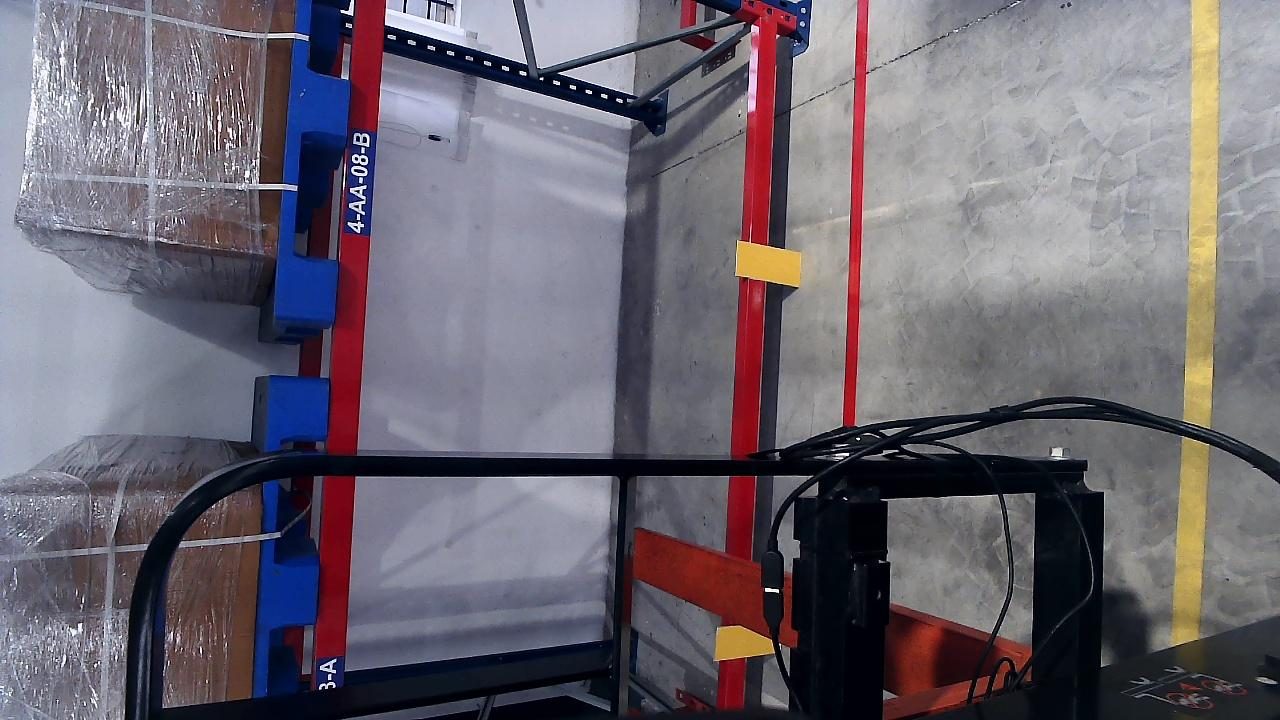h_rack: (715, 20, 776, 704), (313, 0, 368, 685)
orange_strip: (735, 241, 801, 287), (714, 627, 778, 659)
red_line: (840, 5, 869, 426)
small_pallet: (269, 0, 365, 321), (251, 380, 331, 698)
yellow_line: (1172, 0, 1221, 645)
